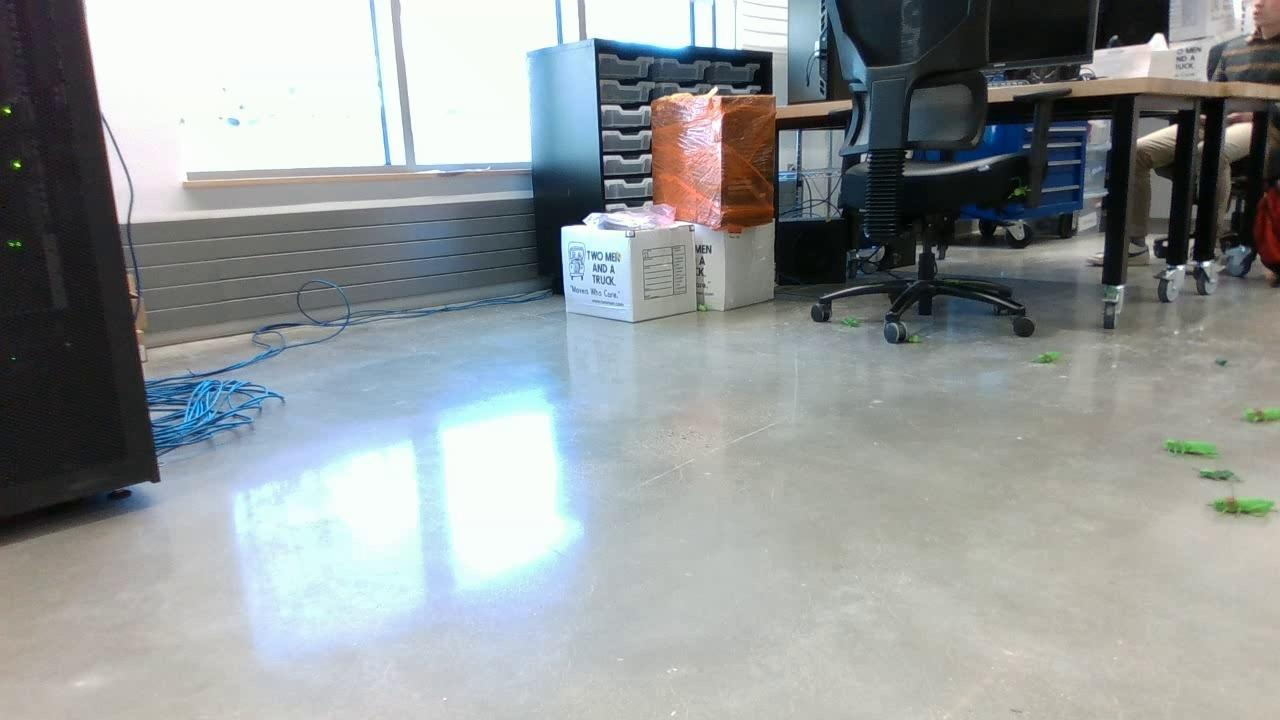grasshopper: (1207, 494, 1274, 518), (1157, 440, 1216, 457), (1238, 408, 1279, 430), (1030, 351, 1061, 367), (1006, 182, 1029, 199), (841, 315, 863, 330), (904, 332, 920, 342), (699, 302, 709, 314)
